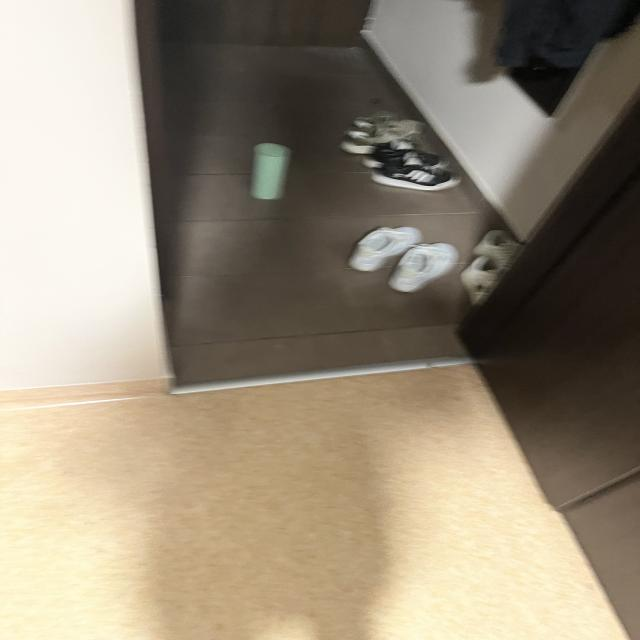meta: (251, 143, 291, 200)
